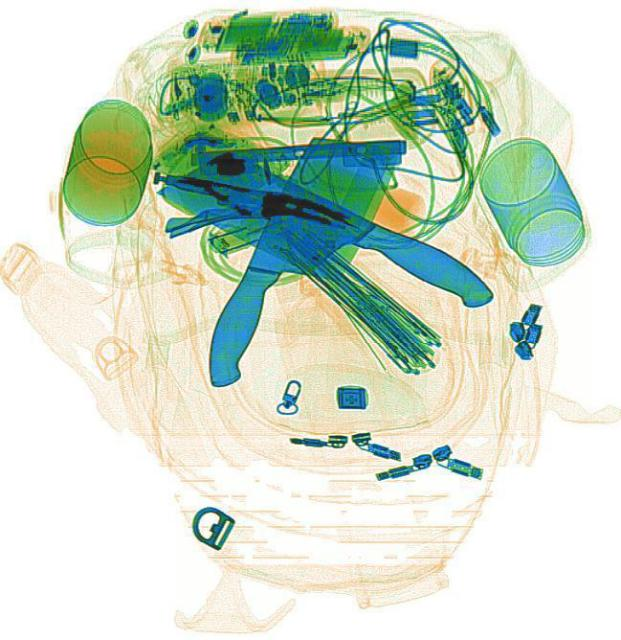Knife: (155, 121, 498, 353), (187, 118, 402, 410)
